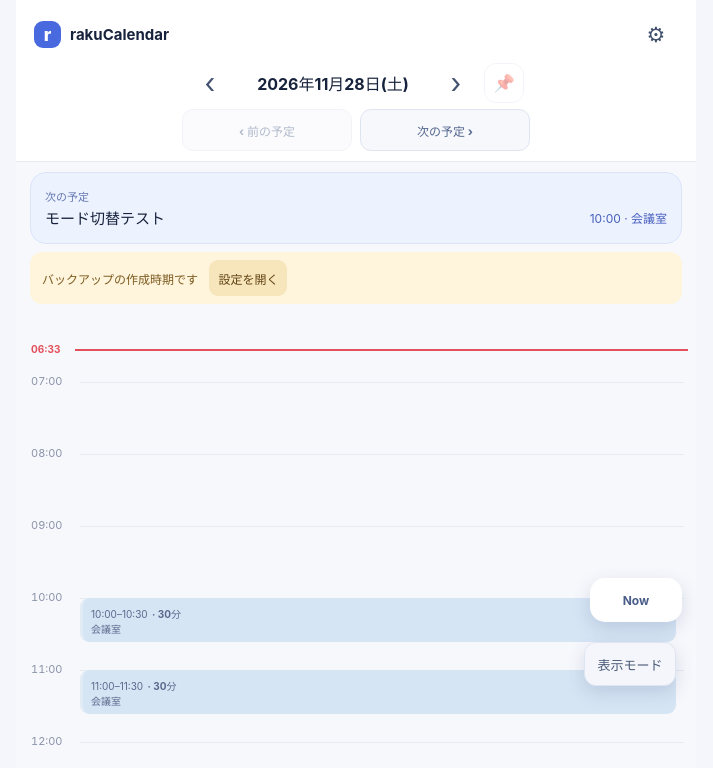
calendar viewing and editing modes › does not cancel the native click on a short touch
(page scrolled)
Click the button with class "mode-toggle" at (630, 664), box top-left (584, 642), bottom-right (676, 686)
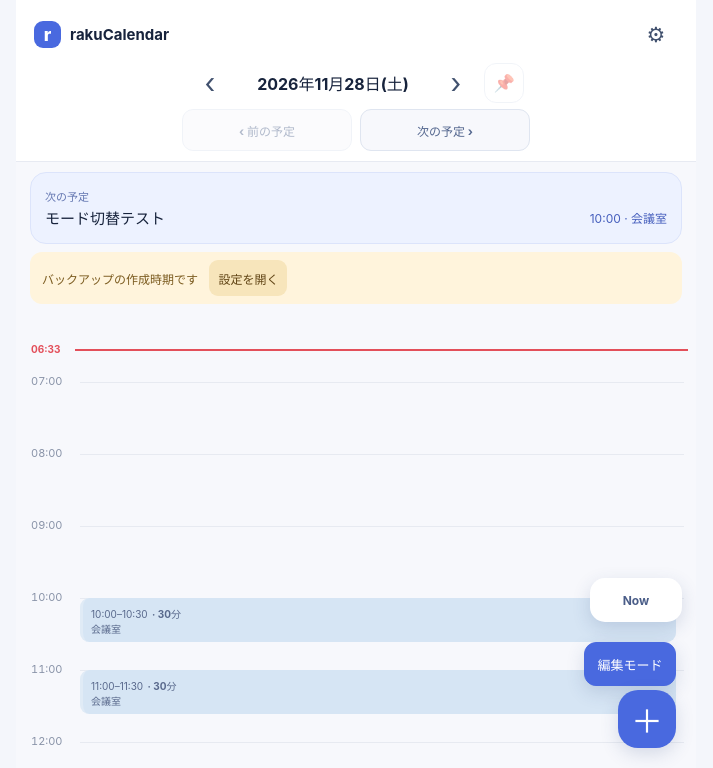
Press the mouse on the button with class "event-card" showing "10:00–10:30 · 30分 会議室" at (139, 612), box top-left (80, 598), bottom-right (676, 642)
Click the button with class "event-card" showing "10:00–10:30 · 30分 会議室" at (139, 612), box top-left (80, 598), bottom-right (676, 642)
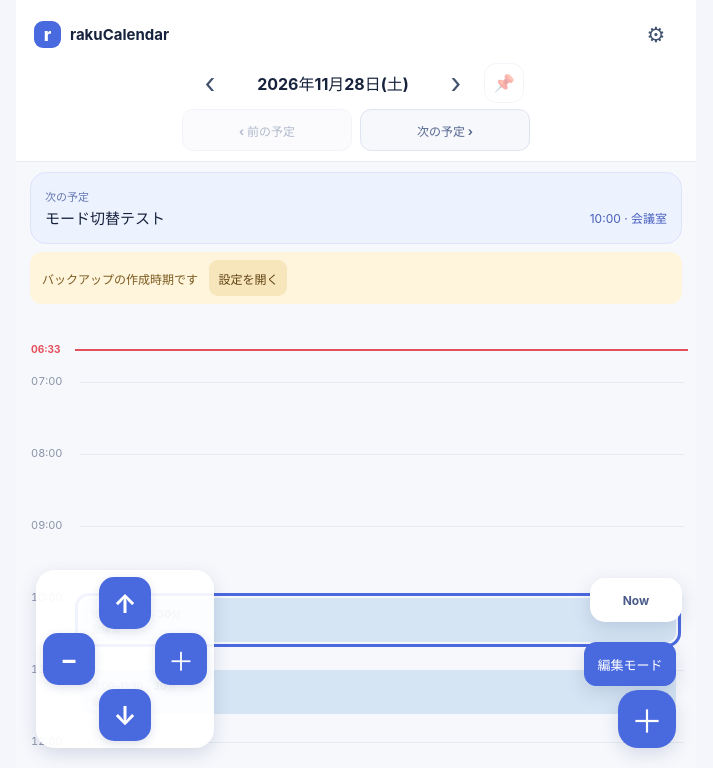
Expected: the element with class "time-adjust-controls" is shown, top-left (36, 570), bottom-right (214, 748)
